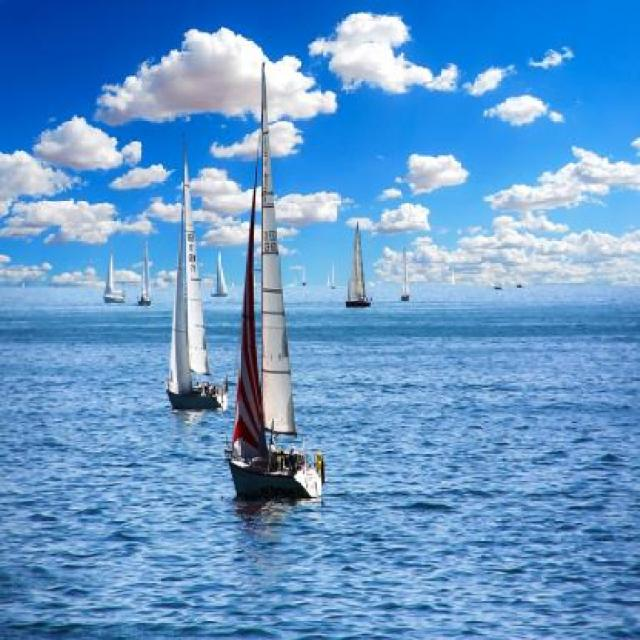ship: (224, 57, 324, 500), (163, 133, 226, 412), (348, 226, 369, 307), (101, 248, 128, 303), (137, 233, 152, 305), (398, 240, 412, 302), (211, 251, 229, 297)
